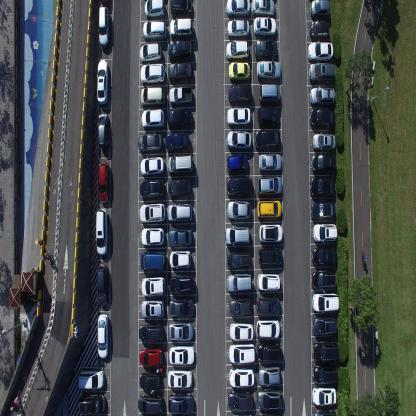car: (256, 388, 284, 412), (167, 152, 194, 176), (95, 208, 108, 257), (138, 392, 164, 416), (96, 58, 109, 106), (166, 107, 193, 130), (167, 392, 194, 415), (311, 293, 339, 315), (168, 344, 196, 366), (97, 313, 110, 360), (140, 85, 166, 108), (309, 107, 335, 130), (228, 342, 255, 364), (78, 393, 106, 414), (96, 262, 109, 307), (258, 245, 283, 268), (169, 272, 194, 295), (313, 342, 339, 364), (255, 175, 281, 197), (225, 128, 251, 150), (254, 128, 280, 150), (309, 178, 335, 200), (309, 61, 335, 83), (307, 40, 333, 62), (227, 271, 253, 293), (140, 275, 166, 297), (138, 321, 164, 343), (167, 368, 193, 390), (78, 368, 104, 390), (97, 160, 110, 204), (225, 176, 252, 197), (166, 202, 193, 223), (98, 5, 111, 48), (168, 176, 191, 200), (138, 132, 162, 155), (227, 198, 251, 221), (141, 107, 165, 130), (312, 245, 336, 268), (258, 222, 283, 244), (257, 198, 282, 220), (140, 63, 165, 85), (167, 38, 192, 60), (142, 18, 167, 40), (140, 249, 166, 270), (168, 17, 194, 38), (256, 297, 282, 318), (138, 203, 166, 222), (141, 224, 165, 246), (168, 85, 192, 107), (168, 62, 192, 84), (225, 38, 249, 60), (253, 15, 277, 37), (139, 346, 163, 368), (226, 106, 251, 127), (310, 201, 335, 222), (225, 224, 250, 245), (139, 178, 165, 198), (228, 322, 254, 342), (229, 368, 255, 388), (256, 344, 283, 363), (256, 106, 280, 127), (312, 131, 336, 152), (311, 271, 336, 291), (313, 366, 338, 386), (313, 317, 338, 337), (165, 132, 190, 152), (257, 152, 282, 172), (310, 86, 335, 106), (256, 60, 281, 80), (312, 386, 337, 406), (228, 391, 254, 410), (168, 322, 194, 341), (226, 154, 248, 176), (140, 42, 162, 64), (168, 228, 192, 248), (141, 155, 165, 175), (227, 84, 251, 104), (312, 154, 336, 174), (256, 319, 280, 339), (140, 298, 164, 318), (256, 273, 281, 292), (169, 298, 194, 317), (169, 249, 191, 270), (309, 18, 330, 40), (254, 38, 277, 58), (226, 18, 249, 38), (258, 366, 281, 386), (227, 250, 251, 269), (312, 224, 337, 242), (228, 62, 250, 82), (230, 298, 252, 318), (139, 370, 161, 390), (98, 110, 109, 150), (258, 83, 280, 102), (226, 0, 249, 18), (252, 0, 275, 17), (144, 0, 165, 18), (309, 0, 330, 17), (170, 0, 192, 16)
